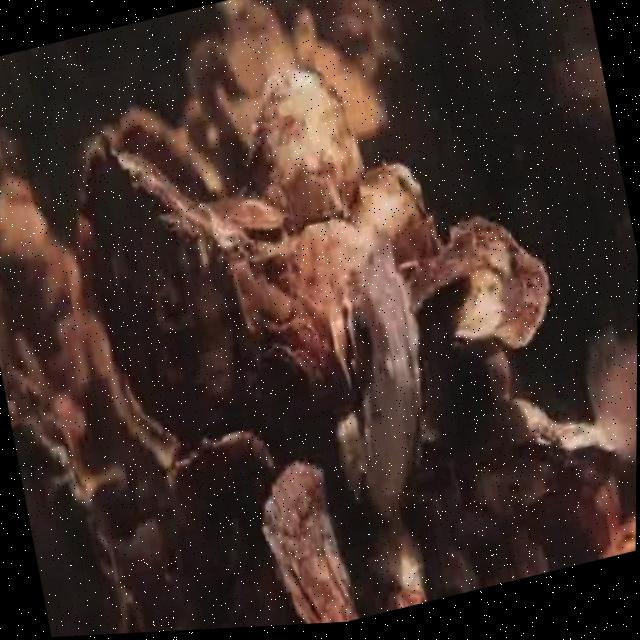Oyster-Closed: (360, 162, 444, 266), (328, 290, 367, 399), (549, 424, 637, 465), (212, 192, 289, 229), (594, 470, 626, 547)
Oyster-Indeterminate: (0, 312, 160, 637), (87, 133, 244, 439), (242, 62, 367, 223), (405, 216, 552, 352), (258, 460, 374, 624), (352, 255, 420, 527), (173, 429, 280, 575), (262, 222, 375, 336), (115, 105, 230, 195), (248, 342, 332, 465), (466, 447, 598, 522), (312, 40, 390, 137), (223, 0, 290, 100), (363, 519, 426, 602), (187, 44, 237, 111)
